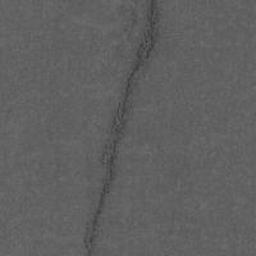Inclusion: (82, 0, 161, 256)
